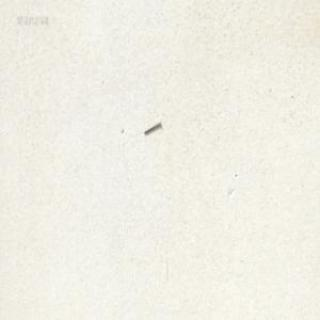Bolttrack_idkeyframe: (142, 119, 160, 135)
